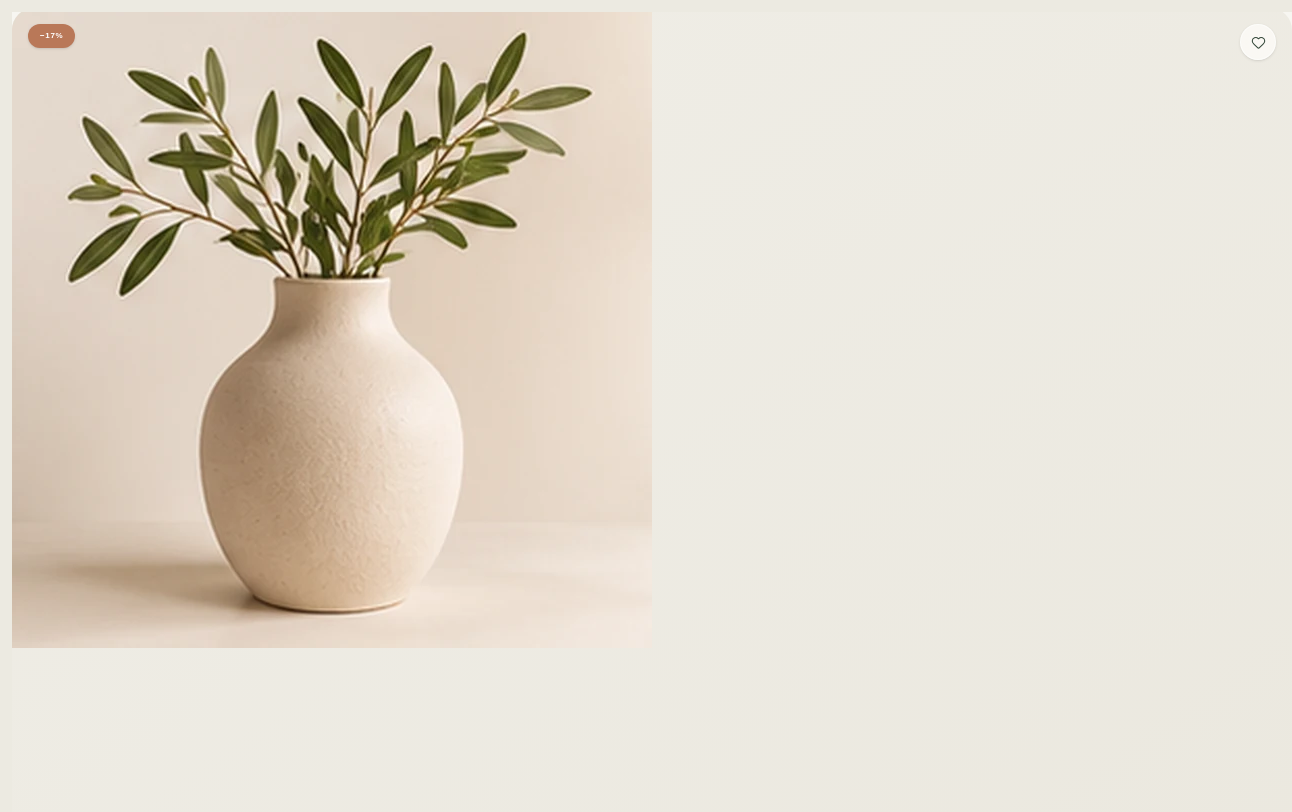
Test case: ProductCard › toggles favorite state from the card button
Later steps or results of the test are not shown.
Click the button named "В избранное" at (1258, 42), box [1240,24,1276,60]
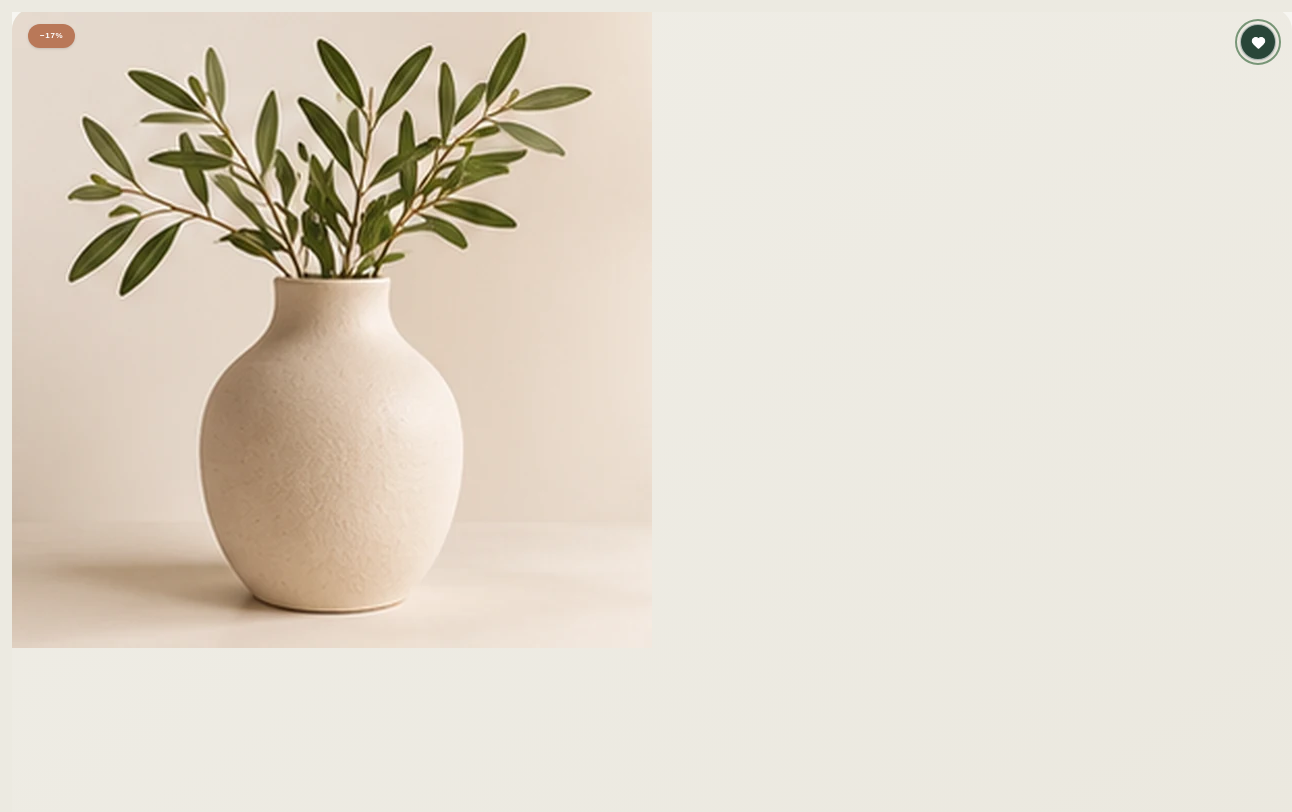
Expected: the button named "Убрать из избранного" is pressed, [1240,24,1276,60]
